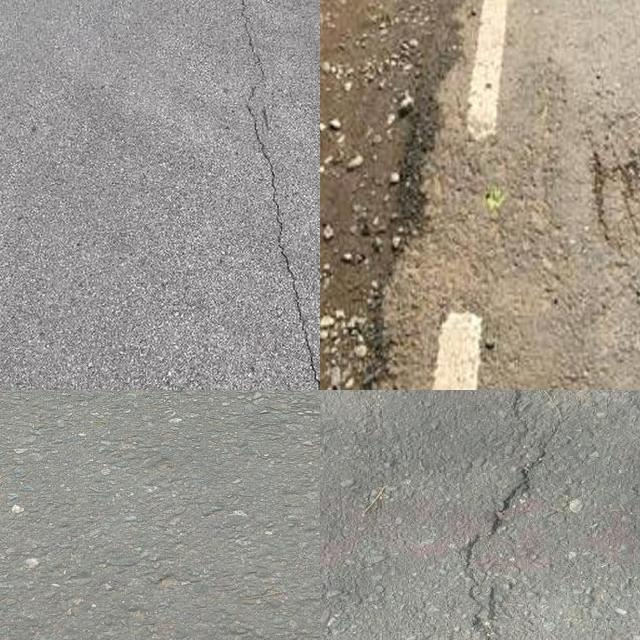Lubang: (574, 150, 640, 239)
Memanjang: (219, 0, 320, 390), (449, 390, 554, 640)
